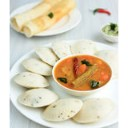idly: (74, 97, 113, 122), (46, 96, 82, 119), (19, 88, 58, 107), (99, 49, 119, 79), (22, 56, 51, 75), (13, 73, 49, 88), (71, 38, 97, 55), (35, 47, 58, 64), (53, 41, 71, 57)
